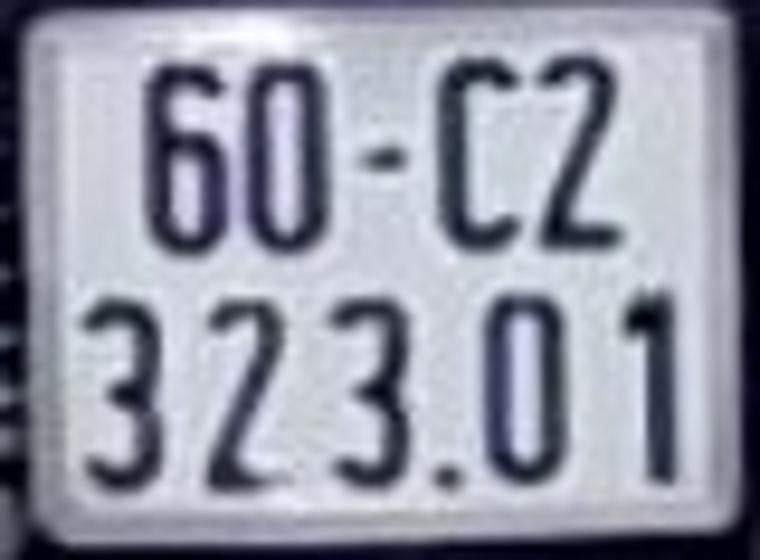-: (359, 147, 405, 171)
.: (439, 466, 460, 487)
0: (246, 59, 329, 251), (485, 291, 567, 481)
1: (624, 290, 678, 485)
2: (540, 49, 622, 251), (203, 299, 289, 488)
3: (79, 296, 165, 491), (333, 293, 407, 484)
6: (144, 63, 227, 253)
C: (435, 55, 518, 247)
